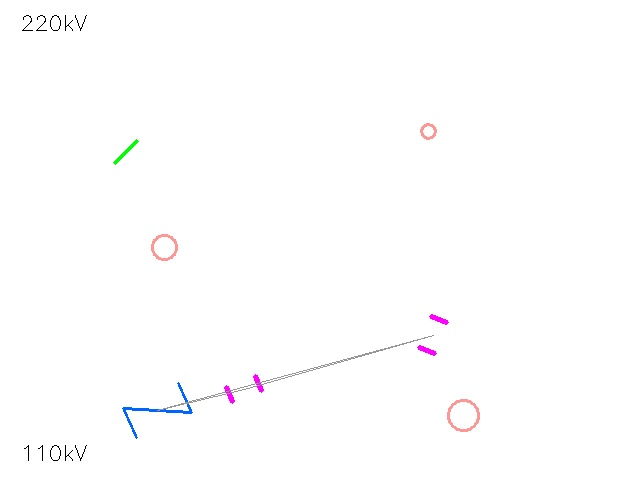busbar: (108, 134, 144, 170)
capacitor: (406, 308, 460, 362), (218, 363, 270, 415)
circuit_breaker: (124, 377, 190, 443)
disconnect_switch: (139, 222, 189, 272)
surge_arrester: (413, 116, 443, 146)
voltage_transformer: (432, 384, 494, 446)
